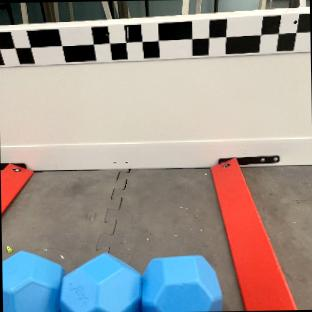Parking-R: (211, 158, 295, 310), (0, 162, 32, 210)
V5_BLUE: (2, 252, 220, 312)
